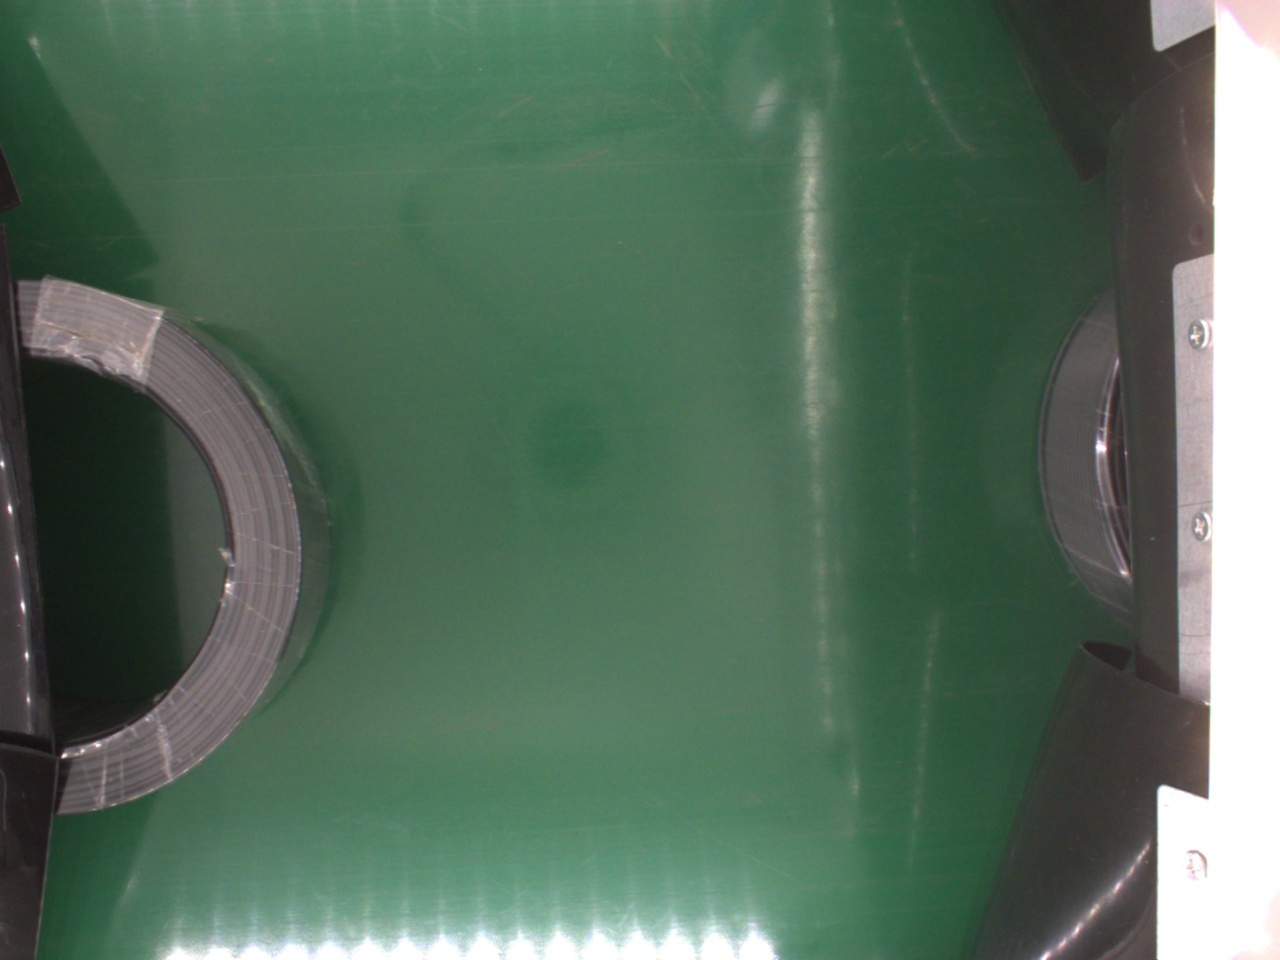black: (19, 273, 332, 813), (1038, 287, 1134, 621)
